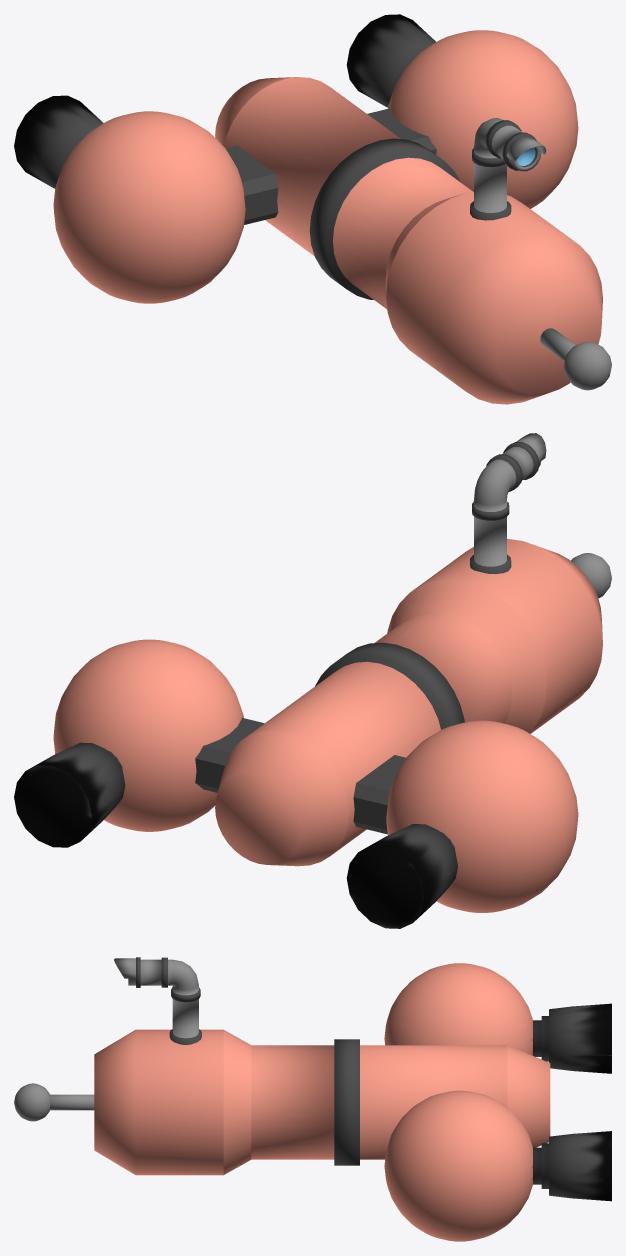
Rendered from space_craft_3.glb.
The picture shows the model from 3 angles, top to bottom: view 1: azimuth 30°, elevation 25°; view 2: azimuth 150°, elevation 25°; view 3: azimuth 270°, elevation 25°; orthographic projection. The views are drawn at different scales.
Parts seen in each view (by area): view 1: sc_body, sc_balls, sc_camera, sc_gun; view 2: sc_balls, sc_body, sc_camera, sc_gun; view 3: sc_body, sc_balls, sc_camera, sc_gun.
Boxes of the visible parts, x1,y1,x2,y2 form: sc_body: (215, 77, 602, 404); sc_balls: (14, 14, 578, 303); sc_camera: (470, 118, 546, 220); sc_gun: (540, 328, 611, 390); sc_balls: (14, 639, 578, 928); sc_body: (195, 538, 602, 866); sc_camera: (470, 433, 546, 574); sc_gun: (571, 553, 611, 598); sc_body: (94, 1029, 550, 1175); sc_balls: (384, 963, 611, 1241); sc_camera: (114, 957, 201, 1044); sc_gun: (14, 1083, 94, 1121).
Bounding box in the file's own units: 6.91 × 3.57 × 9.12.
Materials: 5 (1 with a texture image).
